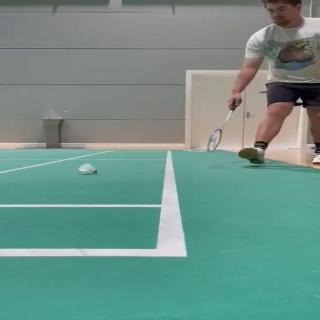Shuttle: (78, 163, 98, 175)
